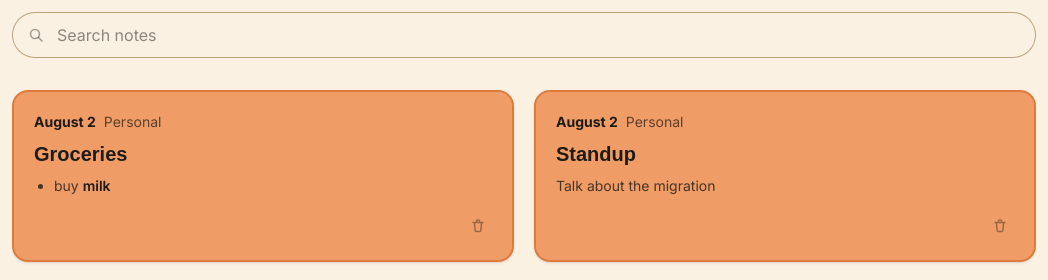
Scenario: NoteSearch › filters by body text too
Type "MIGRATION" into the search field labelled "Search notes". click: (524, 35)
box: [12,12,1036,58]
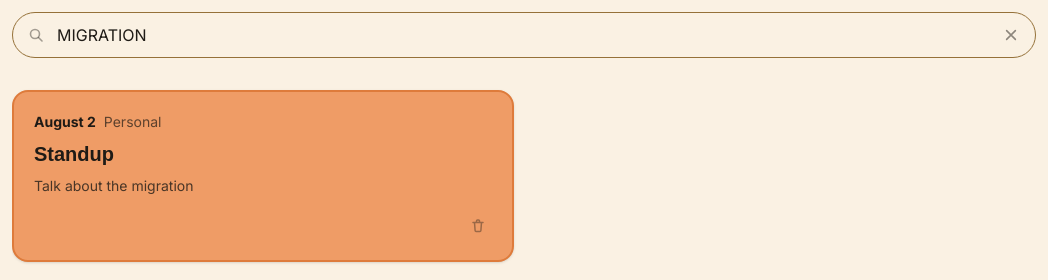
Expected: the heading "Standup" is shown, [34,143,114,165]
Expected: the link "Groceries" is gone
